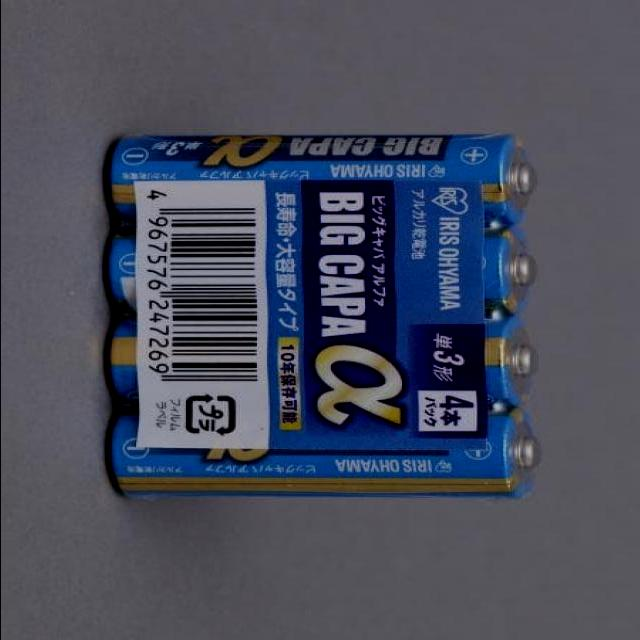AAA: (98, 406, 548, 502), (98, 220, 541, 316), (102, 314, 546, 408), (104, 130, 538, 225)
